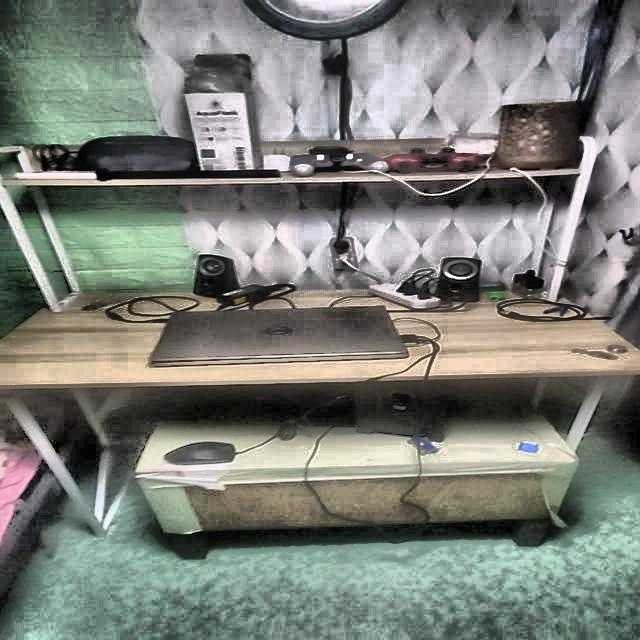mesa: (0, 270, 616, 548)
